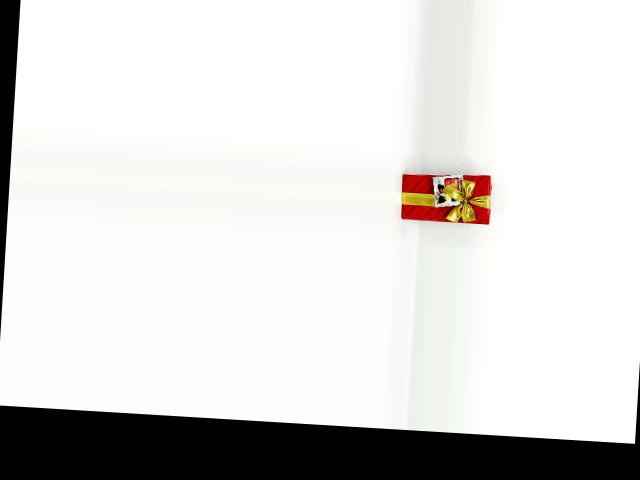chocolate: (400, 170, 495, 229)
